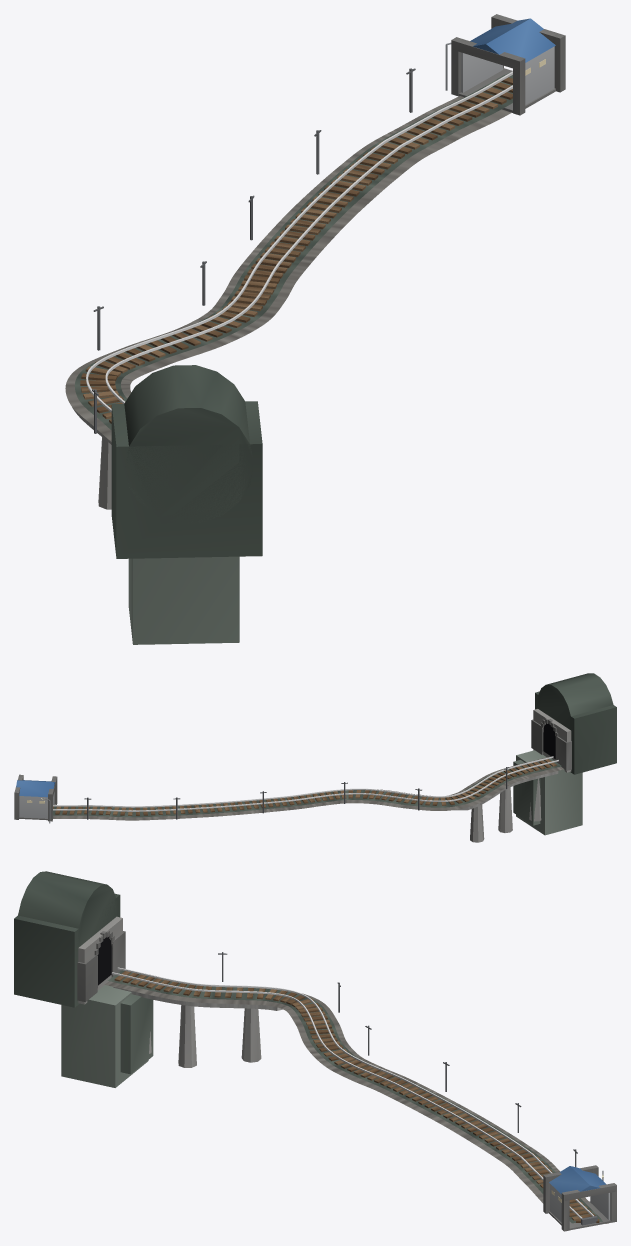
File: Rail_P2.fbx
3 renders of one model, top to bottom at view 1: azimuth 30°, elevation 25°; view 2: azimuth 150°, elevation 25°; view 3: azimuth 270°, elevation 25°, orthographic. The views are drawn at different scales.
Parts seen in each view (by area): view 1: Rail.Portal, Rail.Sleepers, Rail.Shed, Rail.Ballast, Rail.Bed, Rail.Rail.001, Rail.Rail, Rail.Masts, Rail.Piers; view 2: Rail.Portal, Rail.Sleepers, Rail.Bed, Rail.Ballast, Rail.Shed, Rail.Piers, Rail.Rail.001, Rail.Rail, Rail.Deck0, Rail.Masts; view 3: Rail.Portal, Rail.Sleepers, Rail.Ballast, Rail.Bed, Rail.Shed, Rail.Piers, Rail.Rail.001, Rail.Rail, Rail.Deck0.
Boxes of the visible parts, <box> form: Rail.Portal: <box>111,365,262,644</box>; Rail.Sleepers: <box>80,77,512,423</box>; Rail.Shed: <box>451,14,565,115</box>; Rail.Ballast: <box>65,96,511,441</box>; Rail.Bed: <box>74,72,512,429</box>; Rail.Rail.001: <box>86,71,512,412</box>; Rail.Rail: <box>105,85,512,403</box>; Rail.Masts: <box>92,68,415,433</box>; Rail.Piers: <box>98,437,111,509</box>; Rail.Portal: <box>513,673,616,835</box>; Rail.Sleepers: <box>53,759,556,815</box>; Rail.Bed: <box>53,758,561,817</box>; Rail.Ballast: <box>53,757,563,820</box>; Rail.Shed: <box>14,774,57,821</box>; Rail.Piers: <box>470,778,541,842</box>; Rail.Rail.001: <box>53,760,558,811</box>; Rail.Rail: <box>53,756,553,807</box>; Rail.Deck0: <box>454,771,558,810</box>; Rail.Masts: <box>84,767,508,819</box>; Rail.Portal: <box>14,871,153,1087</box>; Rail.Sleepers: <box>114,971,599,1222</box>; Rail.Ballast: <box>104,981,608,1223</box>; Rail.Bed: <box>107,970,602,1223</box>; Rail.Shed: <box>543,1165,616,1231</box>; Rail.Piers: <box>149,1005,261,1067</box>; Rail.Rail.001: <box>117,967,593,1216</box>; Rail.Rail: <box>111,972,582,1218</box>; Rail.Deck0: <box>113,987,282,1010</box>.
Bounding box in the file's own units: 16876 × 5193 × 15855.
